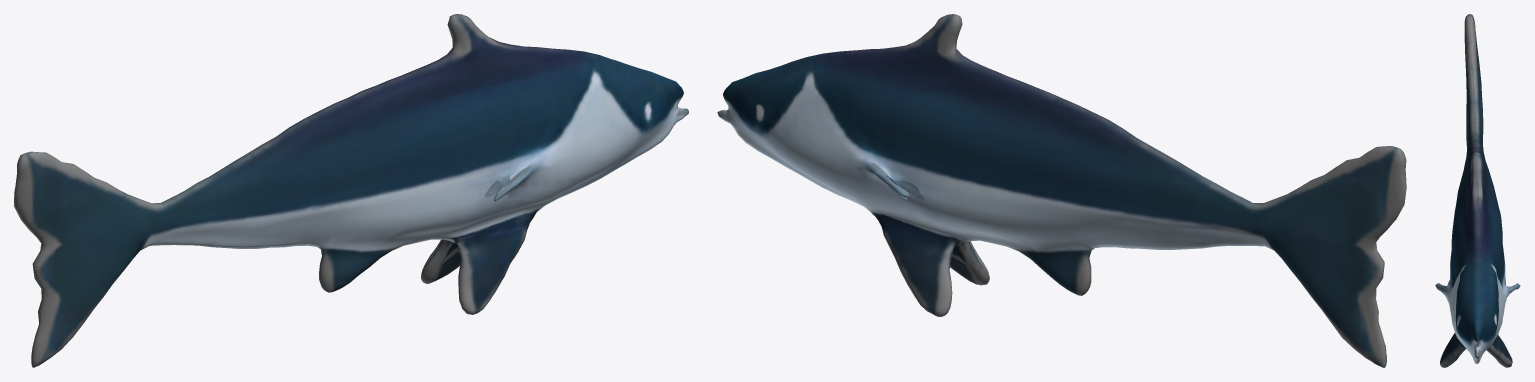
The model's file is fish_02.glb.
The picture shows the model from 3 angles, left to right: view 1: azimuth 30°, elevation 25°; view 2: azimuth 150°, elevation 25°; view 3: azimuth 270°, elevation 25°; orthographic projection. The views are drawn at different scales.
Visible parts, largest first — view 1: mesh; view 2: mesh; view 3: mesh.
Boxes of the visible parts, x1,y1,x2,y2 form: mesh: (14,14,688,367); mesh: (717,14,1406,367); mesh: (1435,14,1520,367).
Size of the model in its own units: 0.9949 by 0.3954 by 0.1428.
1 material, 1 textured.
